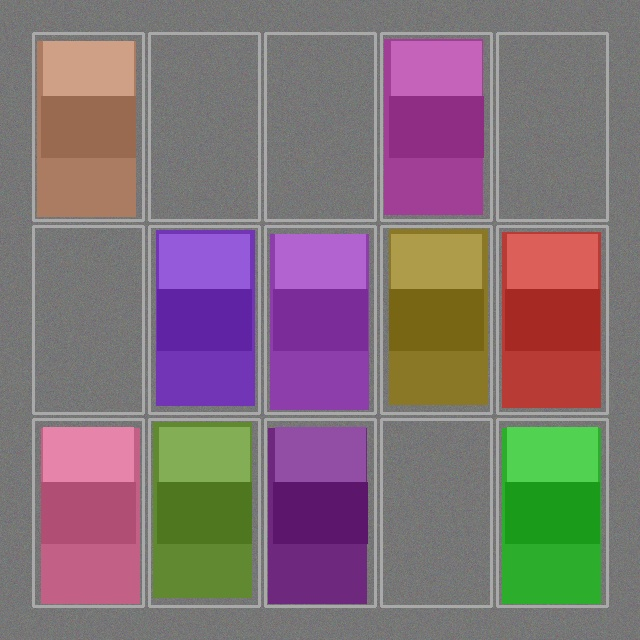space-empty: (151, 35, 257, 218), (267, 35, 373, 218), (499, 35, 605, 218), (35, 228, 141, 411), (383, 421, 489, 604)
space-occupied: (35, 35, 141, 218), (383, 35, 489, 218), (151, 228, 257, 411), (267, 228, 373, 411), (383, 228, 489, 411), (499, 228, 605, 411), (35, 421, 141, 604), (151, 421, 257, 604), (267, 421, 373, 604), (499, 421, 605, 604)
